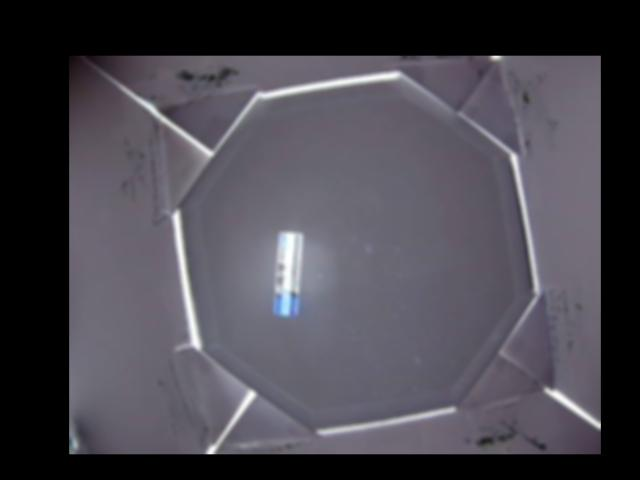Battery: (274, 231, 302, 316)
